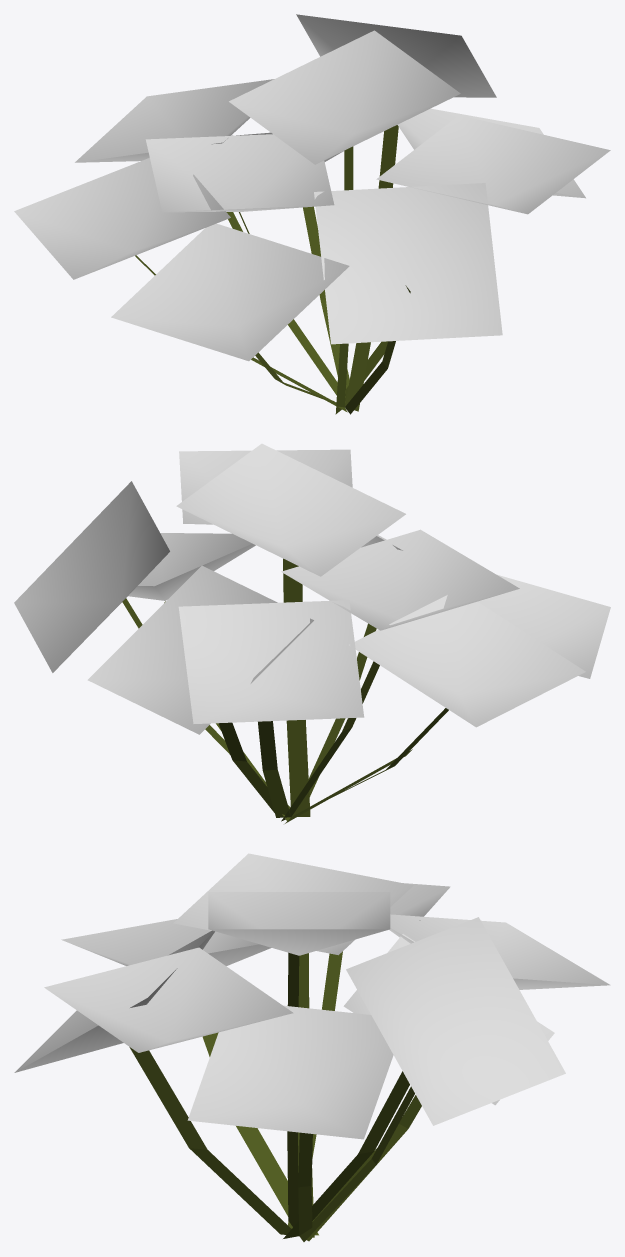
The model's file is flower_1.glb.
3 views of the same model, one above another, from view 1: azimuth 30°, elevation 25°; view 2: azimuth 150°, elevation 25°; view 3: azimuth 270°, elevation 25° (orthographic). The views are drawn at different scales.
Visible parts, largest first — view 1: Flowers; view 2: Flowers; view 3: Flowers.
Part boxes in pixels (box(x1,y1,x2,y2)): Flowers: box(14, 14, 610, 414); Flowers: box(14, 443, 610, 823); Flowers: box(14, 853, 610, 1241).
Size of the model in its own units: 0.3379 by 0.2075 by 0.3261.
